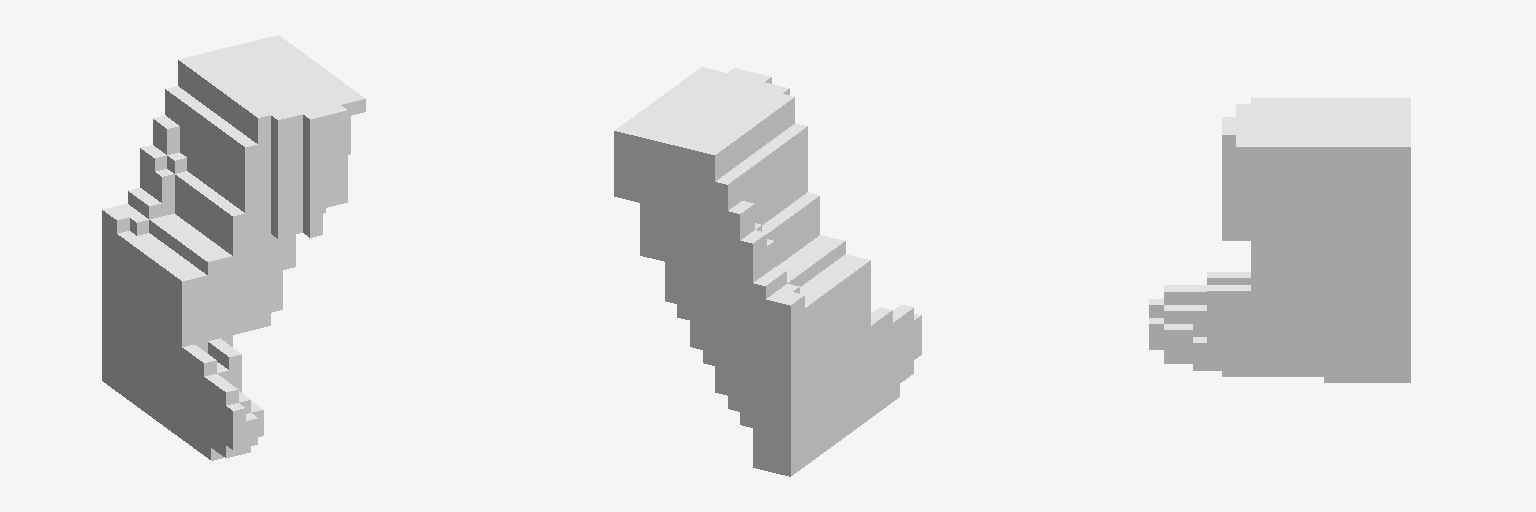
Rendered from beach10.obj.
3 views of the same model, side by side, from view 1: azimuth 30°, elevation 25°; view 2: azimuth 150°, elevation 25°; view 3: azimuth 270°, elevation 25° (orthographic).
Parts seen in each view (by area): view 1: object 1; view 2: object 1; view 3: object 1.
Part boxes in pixels (x1,y1,x2,y2): object 1: (102,35,365,460); object 1: (614,67,921,476); object 1: (1149,98,1410,382).
Size of the model in its own units: 1.4 by 2.3 by 1.8.